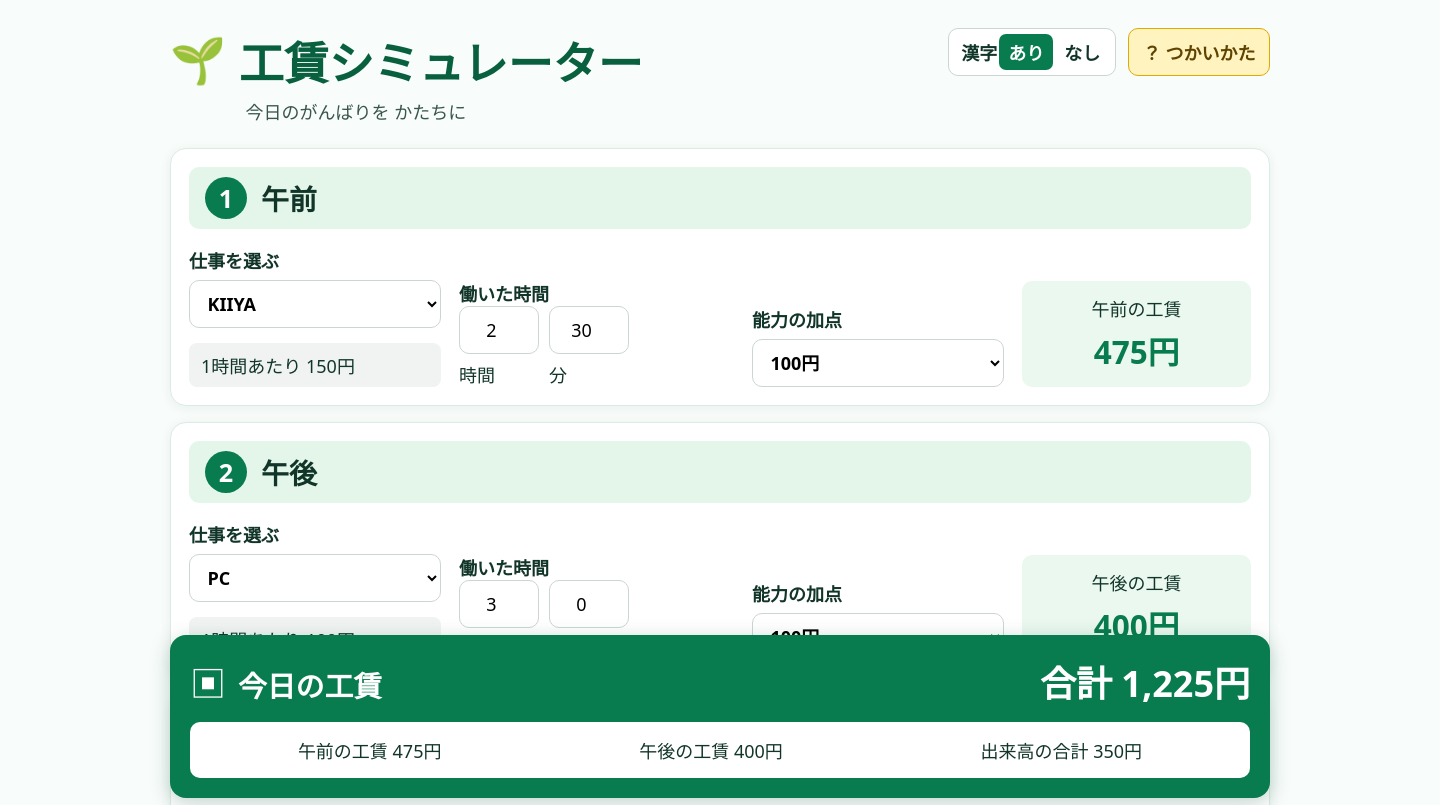
Test: 工賃シミュレーター › やさしい表示をONにすると業務名を平仮名で表示する
Check: the text "漢字" is shown, box x1=961 y1=39 x2=997 y2=65
Click the button "なし" at (1082, 52), box x1=1055 y1=34 x2=1109 y2=70
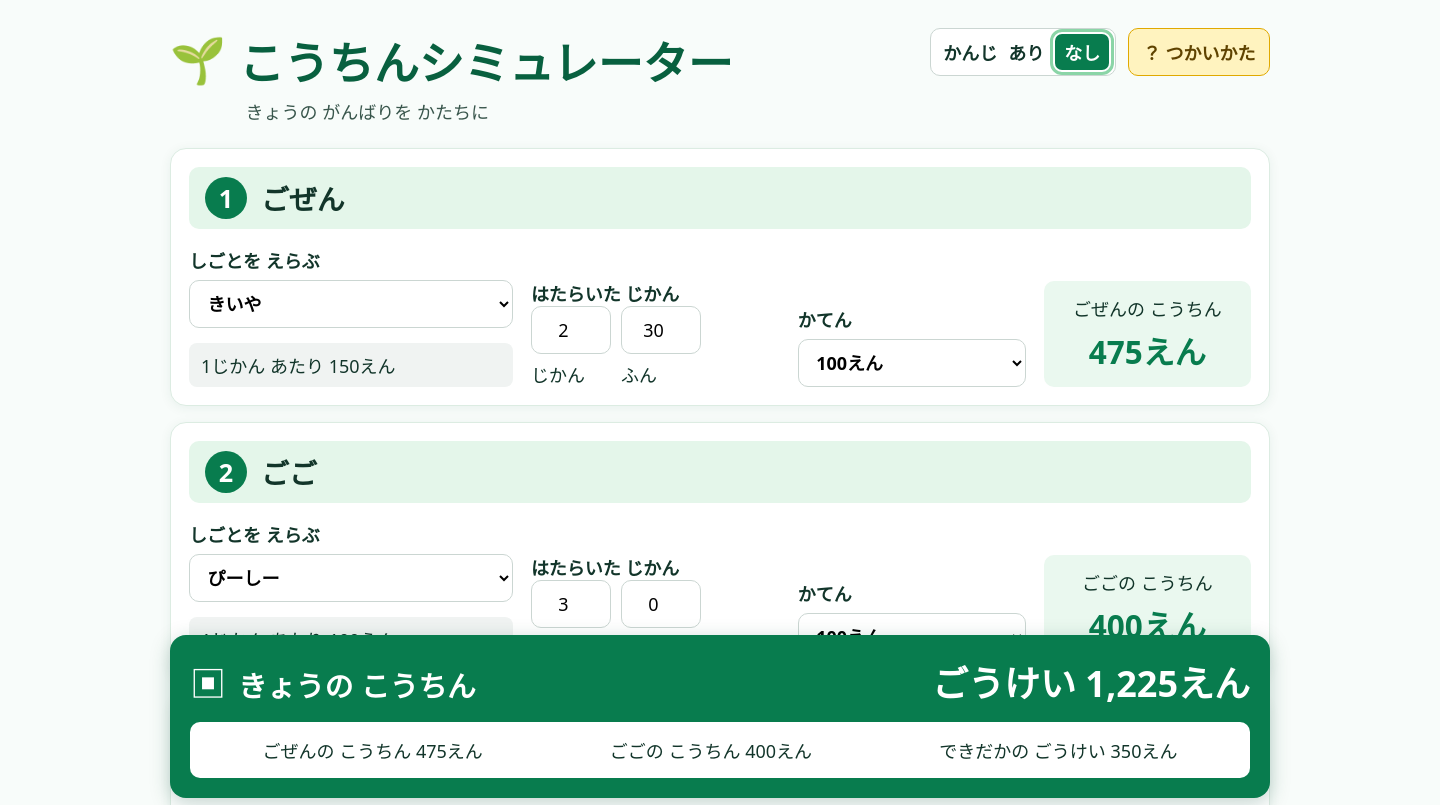
Check: the text "かんじ" is shown, box x1=943 y1=39 x2=997 y2=65
Check: the dropdown named "ごぜんのしごと" shows "きいや", box x1=189 y1=280 x2=513 y2=328
Check: the heading "ごぜん" is shown, box x1=261 y1=178 x2=345 y2=218
